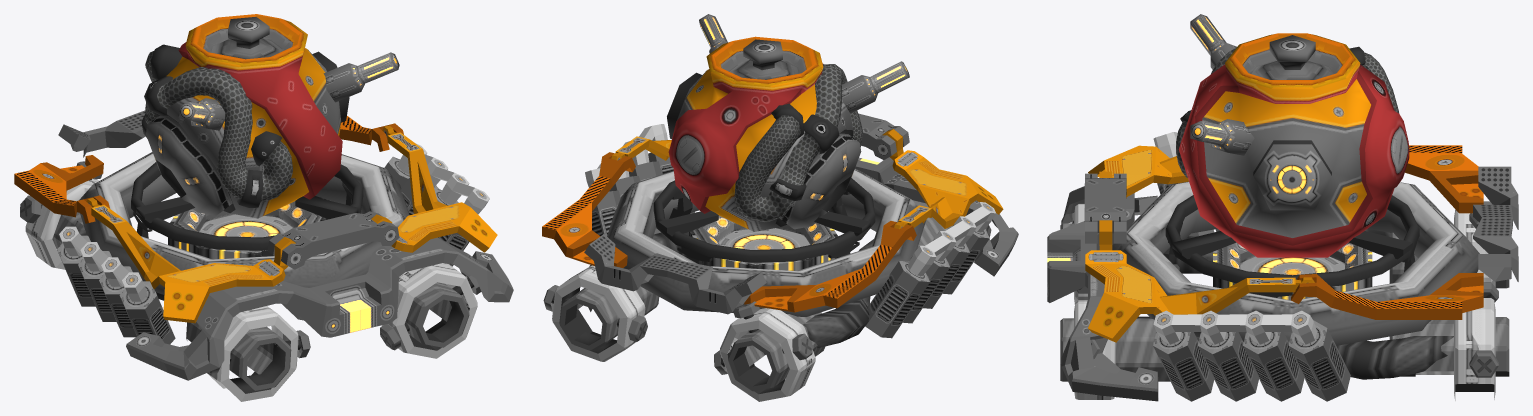
File: electrolyzer.glb
3 views of the same model, side by side, from view 1: azimuth 30°, elevation 25°; view 2: azimuth 150°, elevation 25°; view 3: azimuth 270°, elevation 25° (orthographic). The views are drawn at different scales.
Parts seen in each view (by area): view 1: Plane.005; view 2: Plane.005; view 3: Plane.005.
Part boxes in pixels (left/top/right/bottom): Plane.005: left=14, top=14, right=513, bottom=401; Plane.005: left=542, top=14, right=1018, bottom=401; Plane.005: left=1047, top=14, right=1518, bottom=401.
Bounding box in the file's own units: 41.24 × 30.22 × 42.36.
1 material, 1 textured.
